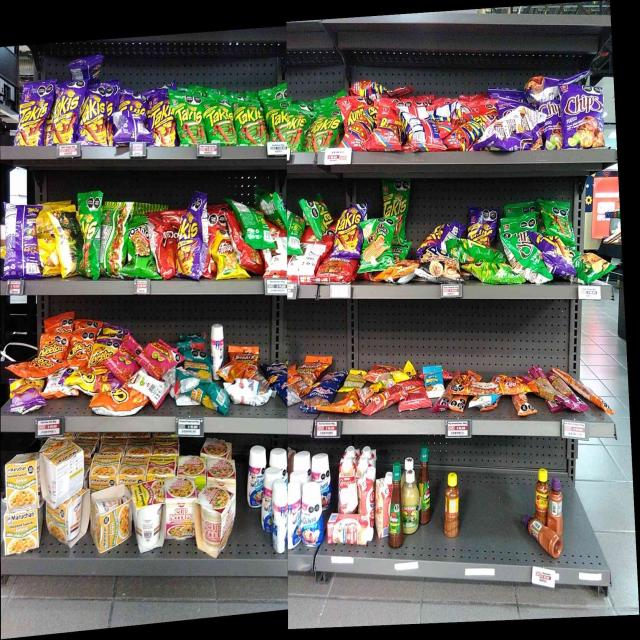bitzAlmendras: (427, 366, 443, 394)
bitzEnchilado90: (402, 383, 427, 405)
bitzEnchilado95: (503, 380, 532, 416), (452, 381, 502, 394), (588, 392, 610, 415)
bitzHabanero: (538, 371, 571, 413)
bokadosCacahuates: (314, 375, 339, 398), (273, 365, 287, 399)
botaneraChilito: (446, 473, 458, 536), (536, 470, 548, 513)
cheetosFlaminHot: (68, 369, 114, 387), (12, 381, 41, 409), (93, 340, 116, 353)
cheetosOriginal: (95, 388, 131, 414), (67, 333, 89, 363), (16, 358, 54, 375)
chipsFuego: (564, 86, 604, 148), (541, 100, 560, 150)
chipsJalapeno: (500, 238, 536, 276), (575, 254, 607, 281)
churrumais: (140, 343, 176, 374), (118, 348, 138, 372)
delPrimoSalsa: (402, 470, 418, 532)
doritosNacho: (155, 216, 175, 273)
fritosLimon: (217, 235, 237, 275)
leoCacahuates: (232, 380, 264, 404)
maruchanPollo: (90, 506, 134, 551), (47, 501, 79, 548), (7, 461, 36, 508), (7, 510, 37, 550)
maruchanRes: (134, 485, 163, 550)
nestleCarnation: (329, 514, 371, 544), (357, 466, 376, 513), (376, 473, 390, 518)
nestleLechera: (302, 483, 323, 545), (247, 450, 266, 508), (288, 481, 301, 543), (212, 325, 224, 366)
nissinCamaron: (166, 478, 194, 541)
nissinRes: (198, 494, 232, 554)
popKarameladas: (422, 249, 452, 280)
productoAtras: (6, 207, 37, 272), (488, 112, 538, 148), (59, 211, 78, 275), (241, 202, 269, 245), (102, 211, 121, 272), (407, 118, 441, 148), (290, 246, 322, 276), (114, 113, 146, 142), (138, 380, 168, 403), (268, 249, 287, 275)
rufflesQueso: (365, 220, 392, 266)
runners: (347, 112, 374, 148), (378, 124, 403, 150), (447, 125, 471, 152)
salsaBufalo: (391, 465, 402, 545), (420, 447, 430, 521)
semillasGirasol: (181, 384, 225, 409), (186, 352, 212, 379), (346, 372, 363, 388)
tajinDulce: (550, 477, 563, 533), (522, 517, 546, 531)
takisFuego: (20, 91, 48, 144), (52, 92, 78, 145), (179, 210, 201, 272), (335, 206, 363, 253), (80, 93, 106, 143), (542, 236, 570, 272), (151, 106, 173, 147), (427, 224, 458, 246), (471, 212, 492, 242)
takisOriginal: (80, 198, 99, 277), (176, 100, 203, 145), (205, 102, 233, 144), (236, 105, 264, 145), (384, 184, 410, 215), (268, 102, 288, 141), (312, 119, 338, 149), (307, 197, 331, 229), (291, 112, 305, 150)
tostitos: (128, 224, 150, 272)
